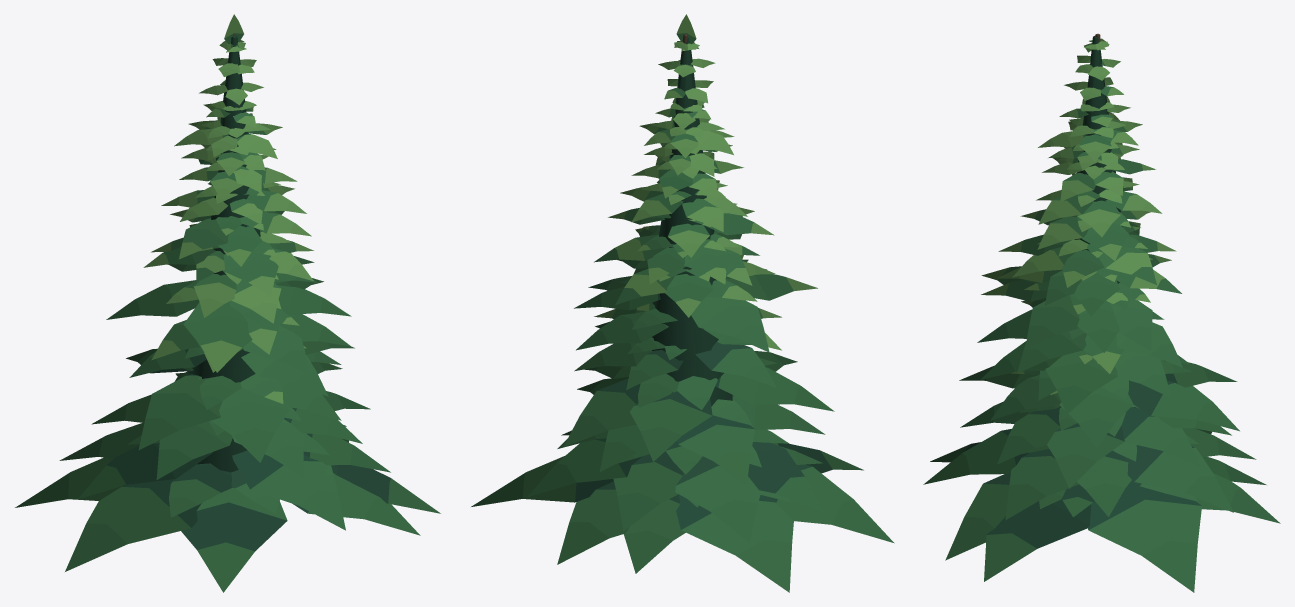
Rendered from SpruceC.glb.
3 renders of one model, left to right at view 1: azimuth 30°, elevation 25°; view 2: azimuth 150°, elevation 25°; view 3: azimuth 270°, elevation 25°, orthographic.
Parts seen in each view (by area): view 1: SpruceC.needleMid, SpruceC.needleLight, SpruceC.needleDark; view 2: SpruceC.needleMid, SpruceC.needleLight, SpruceC.needleDark; view 3: SpruceC.needleMid, SpruceC.needleLight, SpruceC.needleDark.
Boxes of the visible parts, x1,y1,x2,y2 form: SpruceC.needleMid: (15, 33, 440, 592); SpruceC.needleLight: (143, 14, 313, 403); SpruceC.needleDark: (106, 36, 390, 551); SpruceC.needleMid: (471, 33, 894, 592); SpruceC.needleLight: (594, 14, 817, 350); SpruceC.needleDark: (575, 37, 832, 529); SpruceC.needleMid: (923, 41, 1280, 592); SpruceC.needleLight: (981, 38, 1176, 394); SpruceC.needleDark: (964, 35, 1201, 548).
Size of the model in its own units: 24.58 by 32.87 by 21.44.
